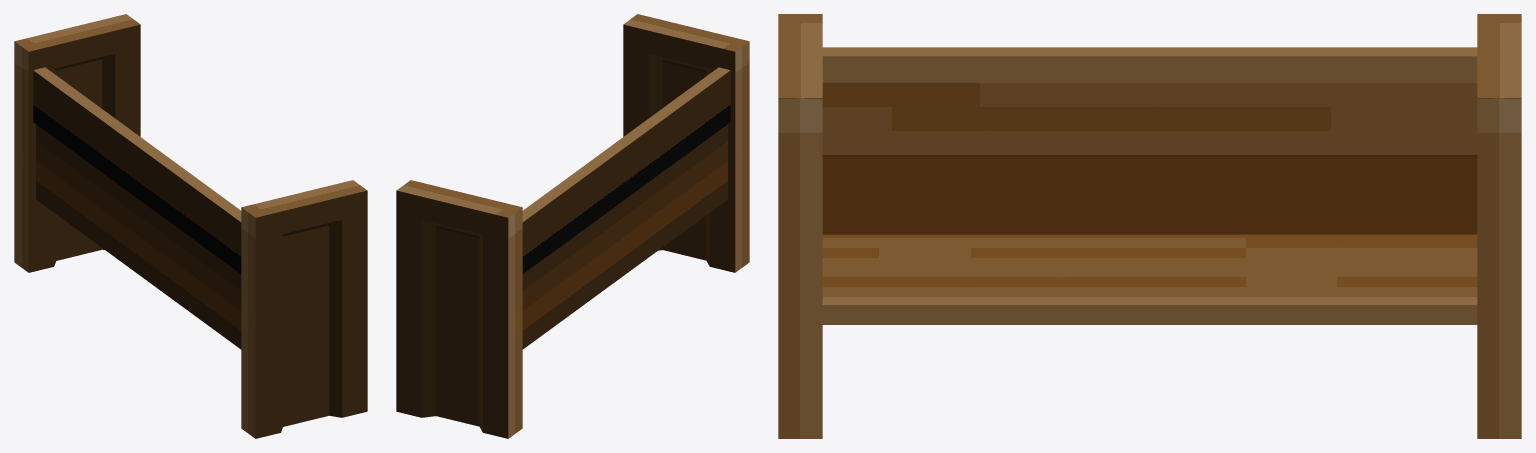
File: wooden_bench_001.obj
3 renders of one model, left to right at view 1: azimuth 30°, elevation 25°; view 2: azimuth 150°, elevation 25°; view 3: azimuth 270°, elevation 25°, orthographic. The views are drawn at different scales.
Parts seen in each view (by area): view 1: Side_1; view 2: Side_1; view 3: Side_1.
Part boxes in pixels (box(x1,y1,x2,y2)): Side_1: box(14, 14, 367, 438); Side_1: box(396, 14, 749, 438); Side_1: box(778, 14, 1521, 438).
Size of the model in its own units: 0.45 by 0.85 by 1.68.
